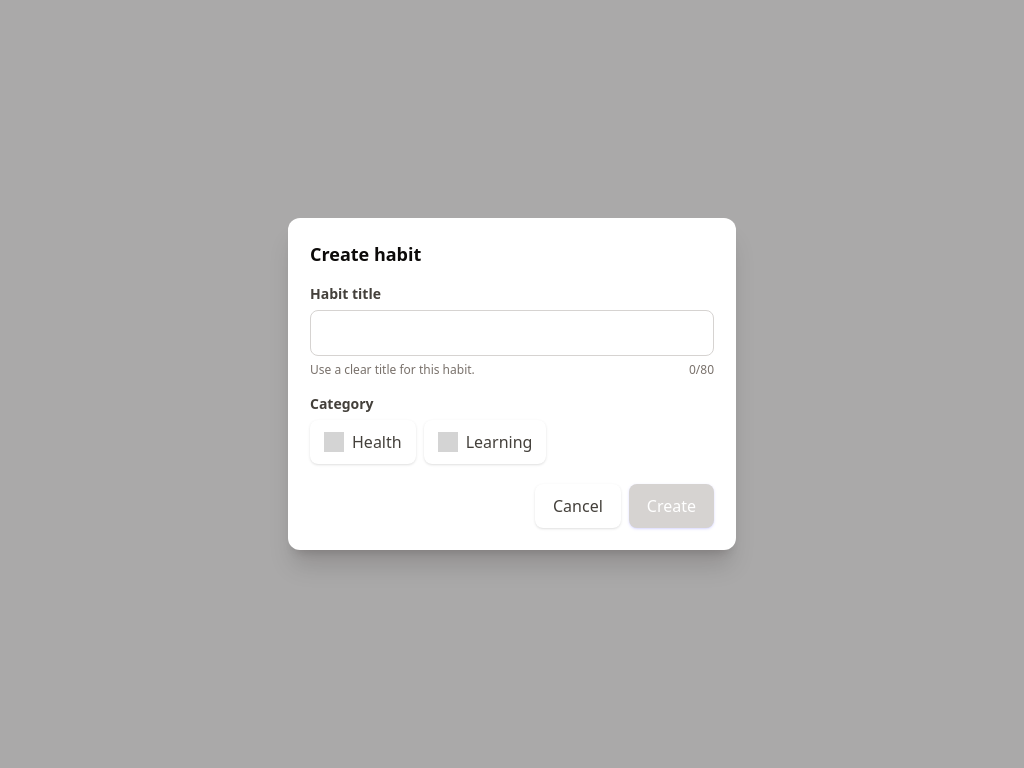
Scenario: habit mutation modals › clears create errors when the form changes
Type "Morning walk" into the field labelled "Habit title".
click(512, 333); type("Morning walk")  # box left=310, top=310, right=714, bottom=356
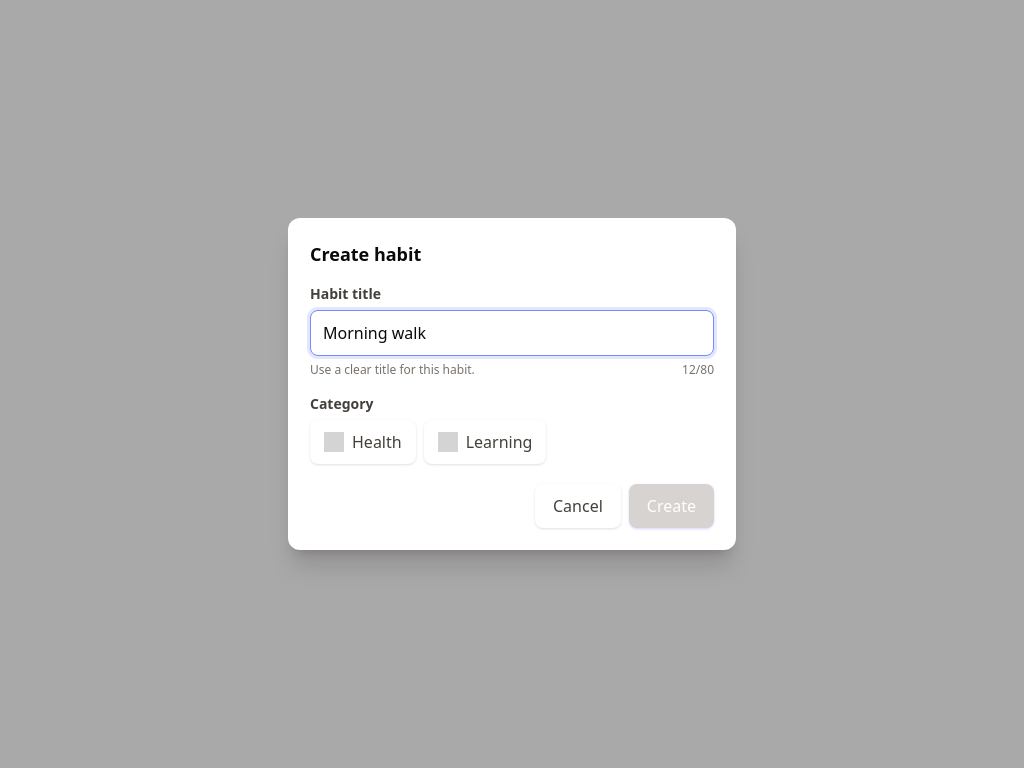
Click the button "Health".
click(363, 442)  # box left=310, top=420, right=416, bottom=464
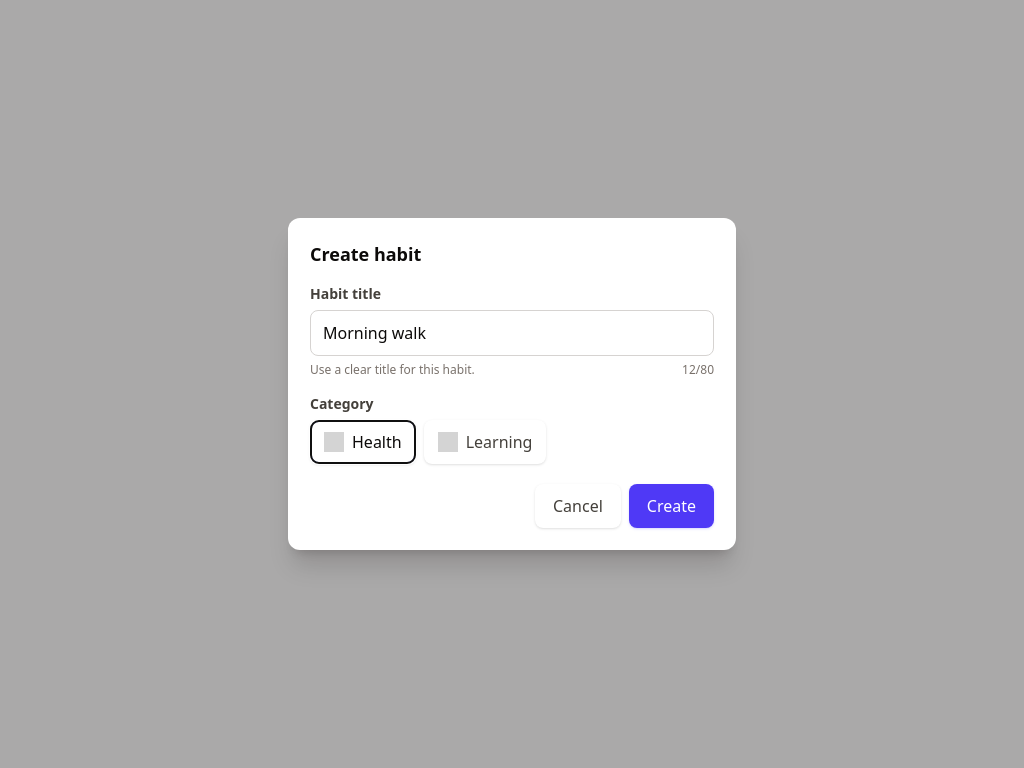
Click the button "Create".
click(671, 506)  # box left=629, top=484, right=714, bottom=528
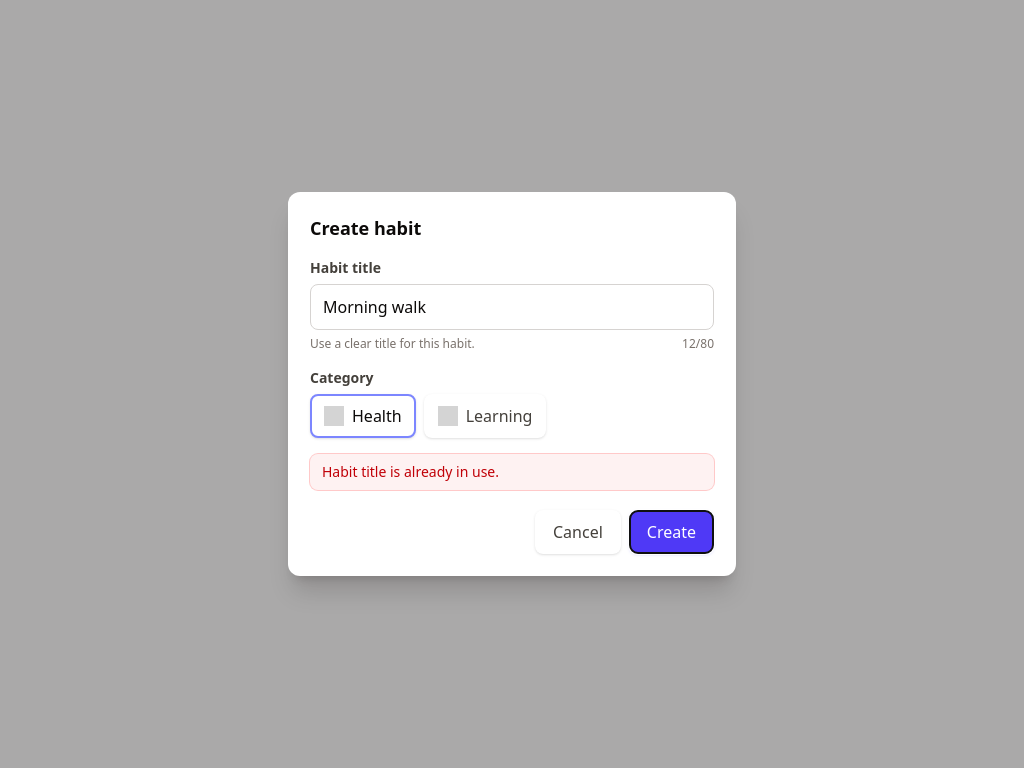
Result: the text "Habit title is already in use." is shown at left=322, top=462, right=499, bottom=481
Type " updated" into the field labelled "Habit title".
click(512, 307); type(" updated")  # box left=310, top=284, right=714, bottom=330
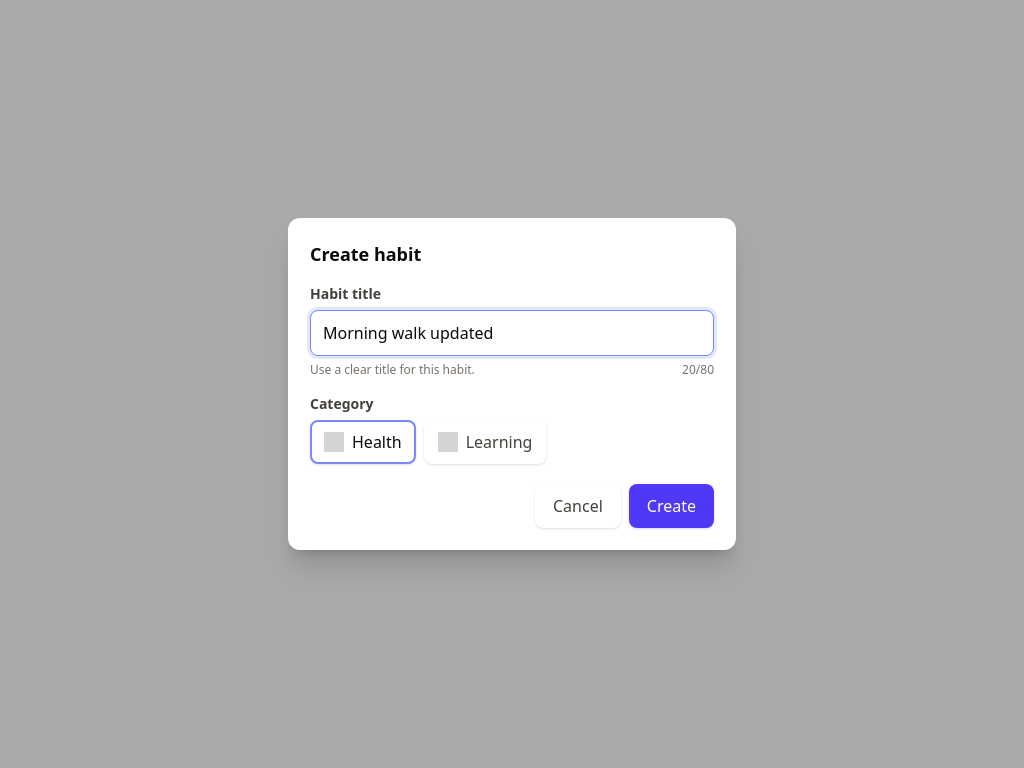
Result: the text "Habit title is already in use." is gone
